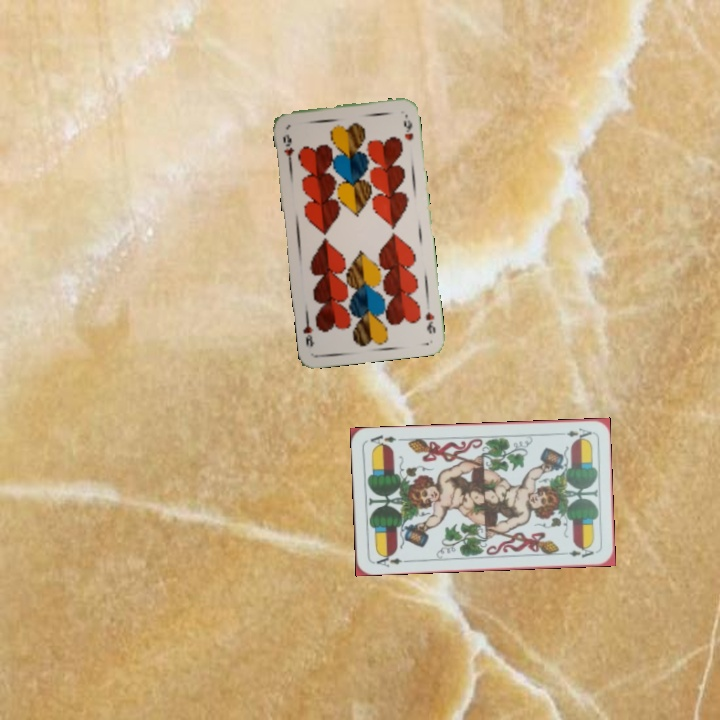EA: (554, 424, 594, 442), (373, 550, 410, 569)
H9: (279, 130, 297, 166), (422, 308, 438, 336)
